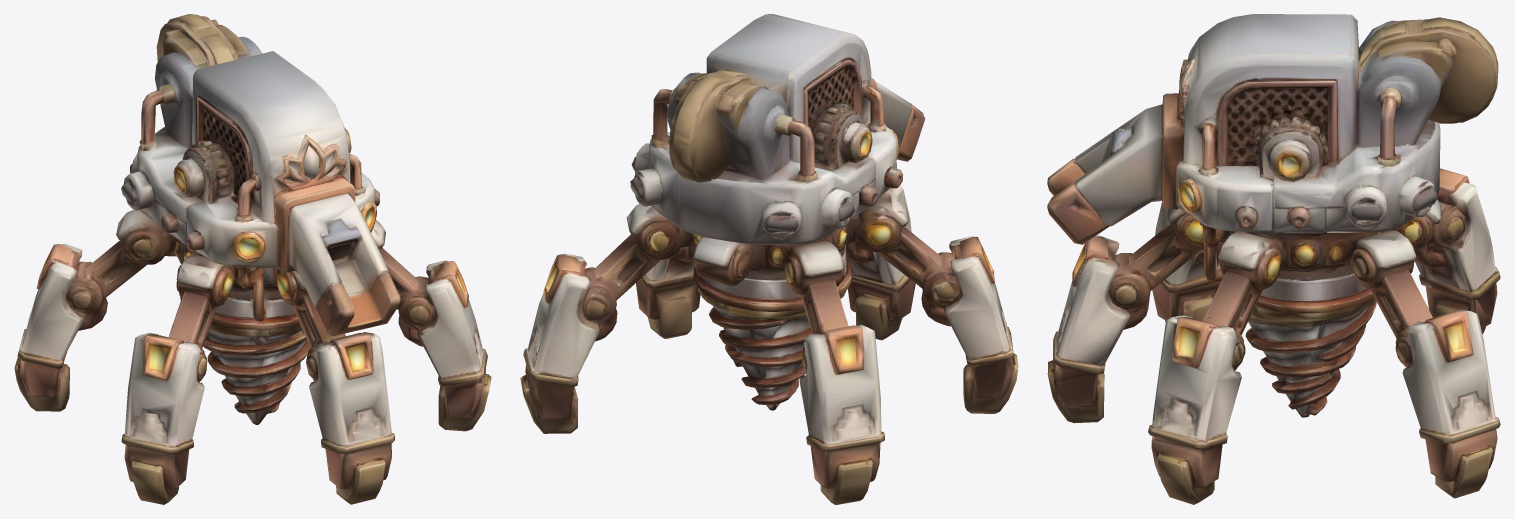
Rendered from auto_drill.glb.
3 views of the same model, side by side, from view 1: azimuth 30°, elevation 25°; view 2: azimuth 150°, elevation 25°; view 3: azimuth 270°, elevation 25° (orthographic). The views are drawn at different scales.
Parts seen in each view (by area): view 1: convert; view 2: convert; view 3: convert.
Part boxes in pixels (left/top/right/bottom): convert: left=14, top=14, right=491, bottom=504; convert: left=520, top=14, right=1018, bottom=504; convert: left=1047, top=14, right=1500, bottom=504.
Size of the model in its own units: 2.64 by 2.5 by 2.6.
1 material, 1 textured.
